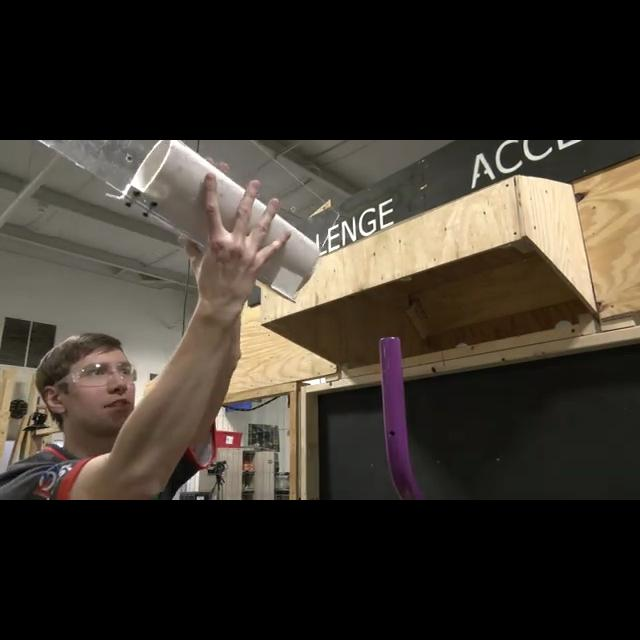CORAL: (123, 140, 321, 302)
